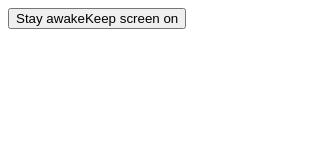
Test: KeepAwake › holds the screen on until switched off, and takes it back after the page was hidden
The width and height of the screenshot is (320, 160).
Click the button with test id "viewer-awake" at (97,18), box [8,8,186,29]
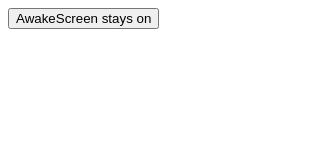
Expected: the button with test id "viewer-awake" is pressed
Click the button with test id "viewer-awake" at (84,18), box [8,8,159,29]
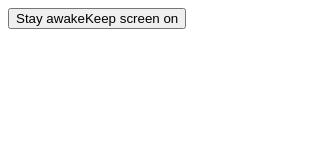
Expected: the button with test id "viewer-awake" is not pressed, [8,8,186,29]
